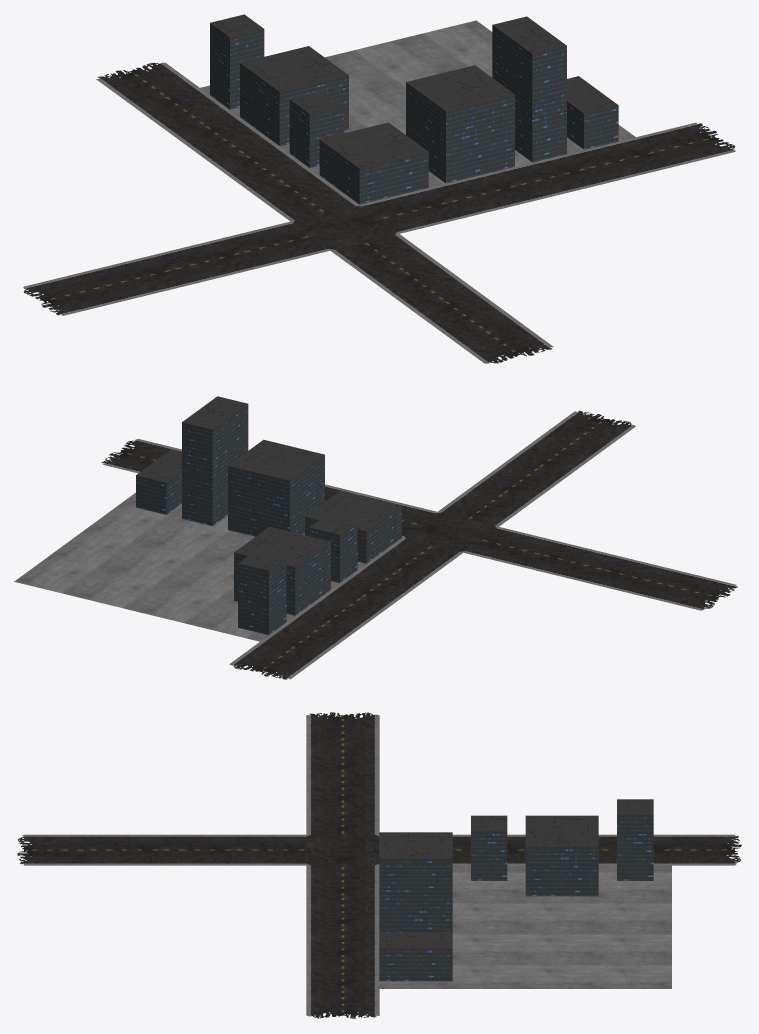
The model's file is city-test.fbx.
3 renders of one model, top to bottom at view 1: azimuth 30°, elevation 25°; view 2: azimuth 150°, elevation 25°; view 3: azimuth 270°, elevation 25°, orthographic. The views are drawn at different scales.
Parts seen in each view (by area): view 1: building.001, city-block, office, building, building.002, office.003, office.002, office.001, city-street.011, city-street.003, city-street.008, city-intersection (+15 smaller); view 2: city-block, building.001, office, building.002, office.003, building, office.001, city-street.012, city-street.005, city-street.007, city-street.009, city-intersection (+12 smaller); view 3: city-block, office, building.002, office.001, office.003, office.002, city-street.004, city-street.005, city-intersection, city-street.001, city-street.002, city-street.011 (+12 smaller).
Boxes of the visible parts, x1,y1,x2,y2 form: building.001: (406, 65, 514, 183); city-block: (200, 20, 635, 187); office: (492, 16, 566, 162); building: (319, 122, 428, 204); building.002: (240, 46, 348, 145); office.003: (210, 14, 264, 109); office.002: (289, 91, 344, 167); office.001: (567, 76, 618, 149); city-street.011: (330, 234, 438, 279); city-street.003: (567, 137, 675, 182); city-street.008: (211, 146, 319, 192); city-intersection: (290, 204, 398, 250); city-block: (14, 492, 365, 641); building.001: (228, 439, 324, 536); office: (182, 396, 248, 526); building.002: (234, 526, 330, 615); office.003: (238, 550, 286, 635); building: (305, 490, 401, 563); office.001: (136, 449, 181, 514); city-street.012: (473, 460, 569, 500); city-street.005: (525, 542, 621, 582); city-street.007: (367, 538, 462, 578); city-street.009: (296, 590, 391, 630); city-intersection: (402, 512, 498, 552); city-block: (379, 865, 671, 988); office: (379, 843, 452, 932); building.002: (525, 815, 598, 896); office.001: (379, 932, 452, 981); office.003: (617, 799, 653, 880); office.002: (471, 815, 507, 880); city-street.004: (306, 803, 379, 834); city-street.005: (306, 772, 379, 803); city-intersection: (306, 834, 379, 865); city-street.001: (306, 896, 379, 927); city-street.002: (306, 927, 379, 958); city-street.011: (233, 834, 306, 865).
Bounding box in the file's own units: 1000 × 150 × 1000.
Materials: 22 (22 with a texture image).
